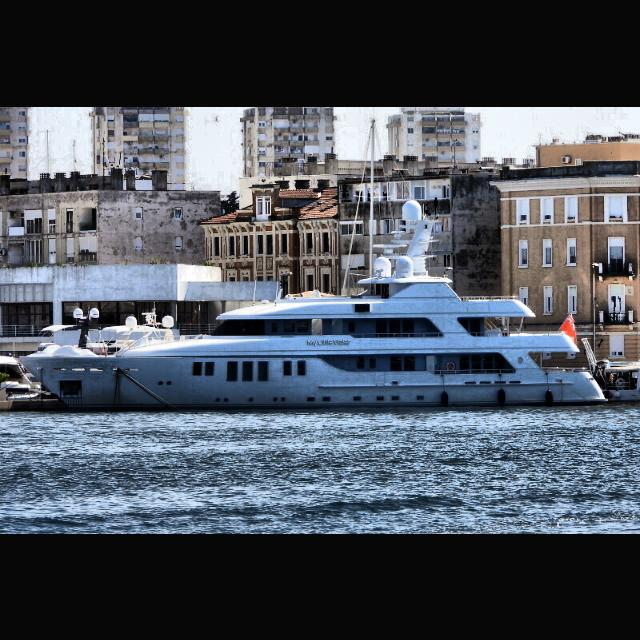yacht: (13, 194, 609, 413)
